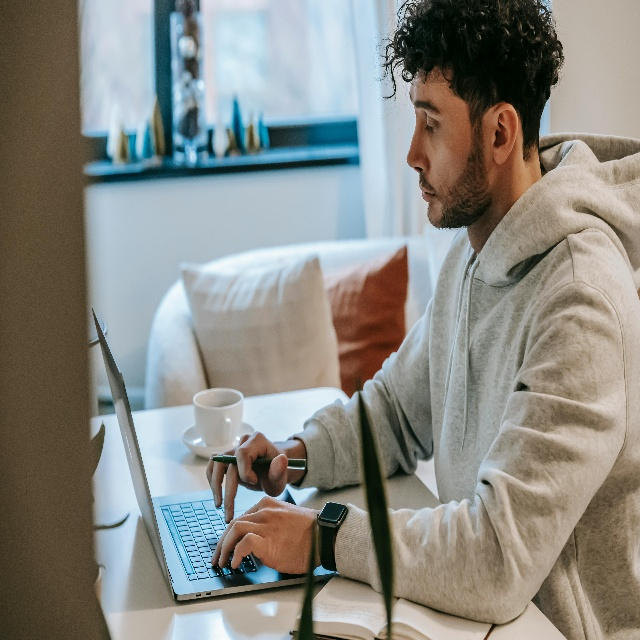Sin_guantes: (210, 501, 320, 580), (204, 428, 289, 521)
